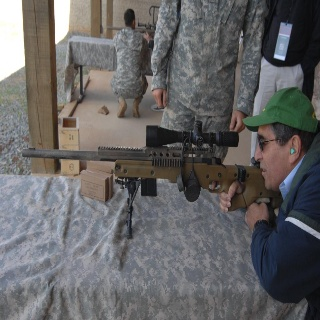rifle: (21, 118, 278, 237)
